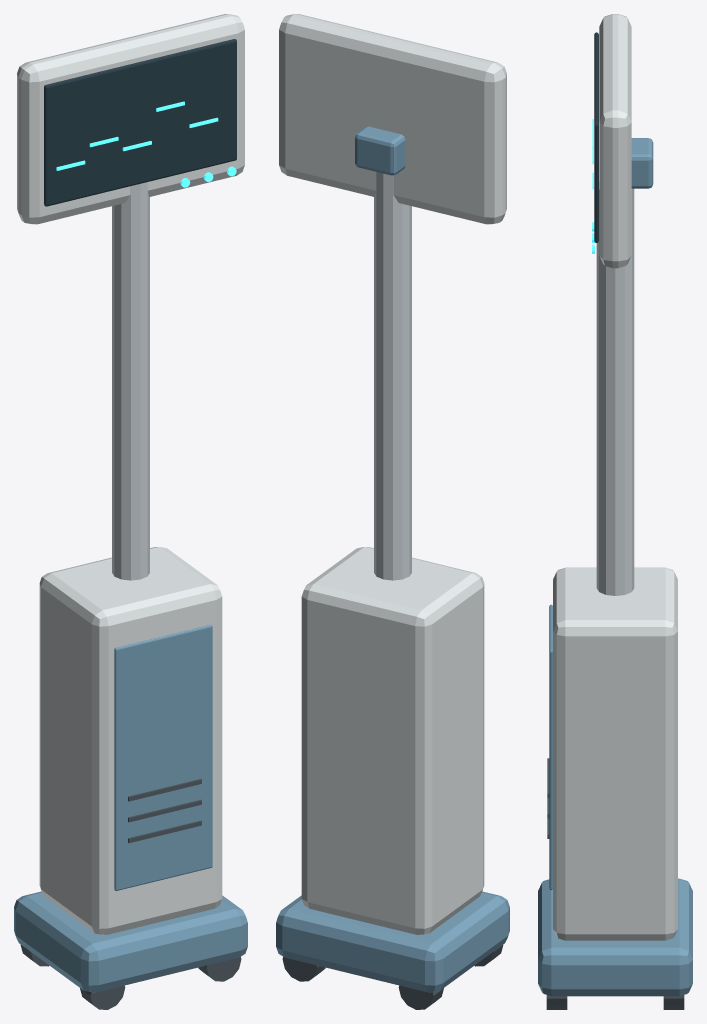
File: PatientMonitor.glb
3 views of the same model, side by side, from view 1: azimuth 30°, elevation 25°; view 2: azimuth 150°, elevation 25°; view 3: azimuth 270°, elevation 25° (orthographic).
Parts seen in each view (by area): view 1: PatientMonitor_white_01, PatientMonitor_frame_01, PatientMonitor_screen_01, PatientMonitor_metal_01, PatientMonitor_rubber_01, PatientMonitor_accent_01; view 2: PatientMonitor_white_01, PatientMonitor_frame_01, PatientMonitor_metal_01, PatientMonitor_rubber_01; view 3: PatientMonitor_white_01, PatientMonitor_metal_01, PatientMonitor_frame_01, PatientMonitor_screen_01, PatientMonitor_rubber_01.
Boxes of the visible parts, <box> form: PatientMonitor_white_01: <box>17,14,244,934</box>; PatientMonitor_frame_01: <box>14,624,247,992</box>; PatientMonitor_screen_01: <box>44,39,236,206</box>; PatientMonitor_metal_01: <box>112,182,149,580</box>; PatientMonitor_rubber_01: <box>20,779,241,1009</box>; PatientMonitor_accent_01: <box>56,101,236,187</box>; PatientMonitor_white_01: <box>279,14,506,934</box>; PatientMonitor_frame_01: <box>276,126,509,992</box>; PatientMonitor_metal_01: <box>374,172,411,580</box>; PatientMonitor_rubber_01: <box>282,945,503,1009</box>; PatientMonitor_white_01: <box>553,14,677,940</box>; PatientMonitor_metal_01: <box>596,182,634,595</box>; PatientMonitor_frame_01: <box>538,138,692,996</box>; PatientMonitor_screen_01: <box>594,32,598,242</box>; PatientMonitor_rubber_01: <box>546,758,684,1009</box>.
Bounding box in the file's own units: 1.34 × 5.36 × 0.82.
